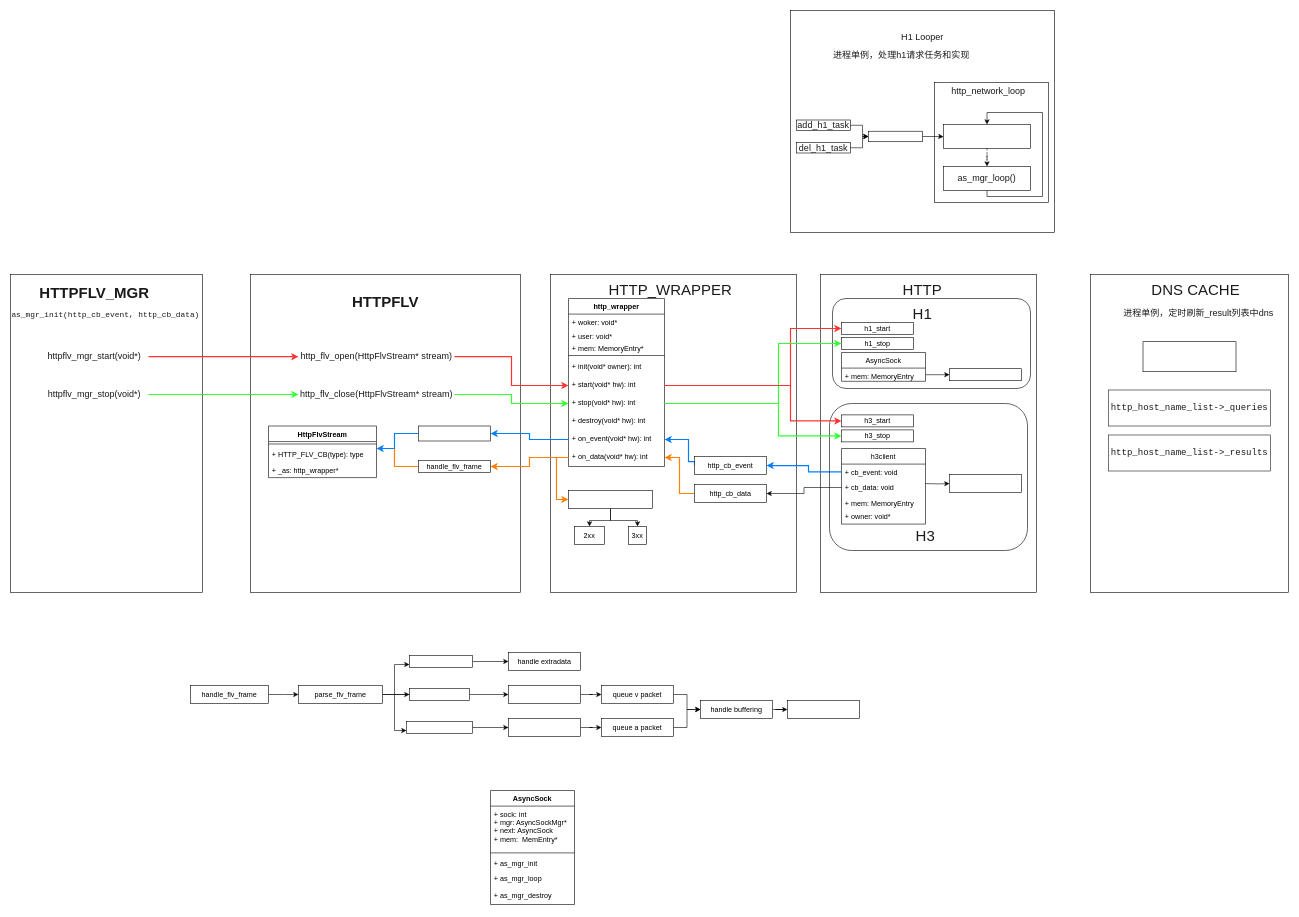
The diagram is 1299 pixels wide and 917 high, and some of its shapes have lost their labels. Each missing label, with the centre of its shape:
"add_flv_task" goes at (x=895, y=136).
"async_socket(tcp)" goes at (x=985, y=374).
"audio" goes at (x=439, y=727).
"check jitter" goes at (x=823, y=709).
"getaddrinfo" goes at (x=1189, y=356).
"handle_http_response" goes at (x=610, y=499).
"handle_httpflv_task" goes at (x=986, y=136).
"header" goes at (x=440, y=661).
"init audio codec" goes at (x=544, y=727).
"init video codec" goes at (x=544, y=694).
"on_http_event" goes at (x=454, y=433).
"quic(udp)" goes at (x=985, y=483).
"video" goes at (x=439, y=694).
